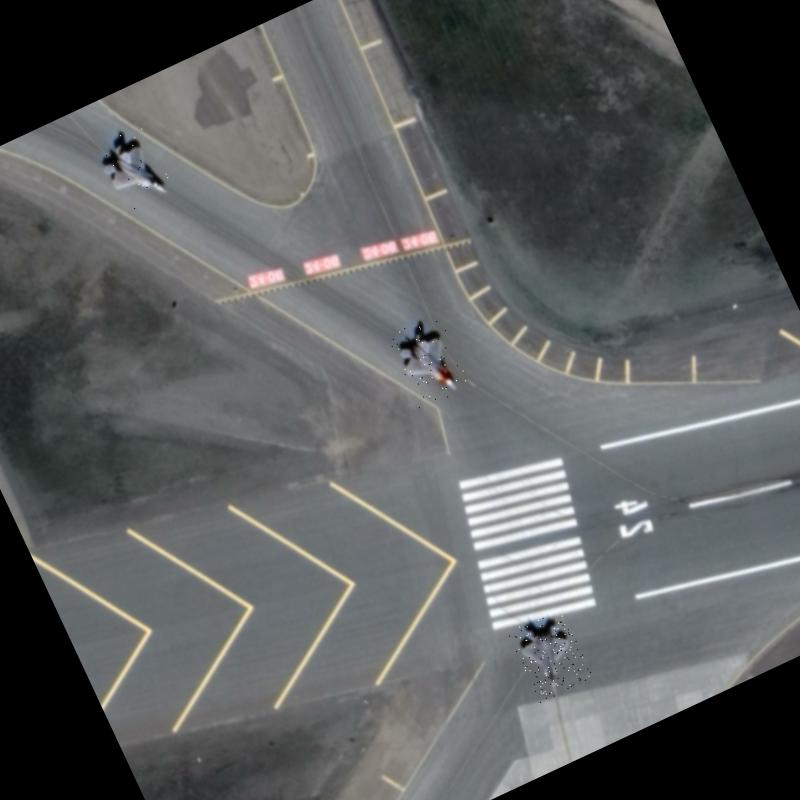A15: (89, 120, 176, 217), (386, 312, 472, 410), (507, 606, 593, 702)
